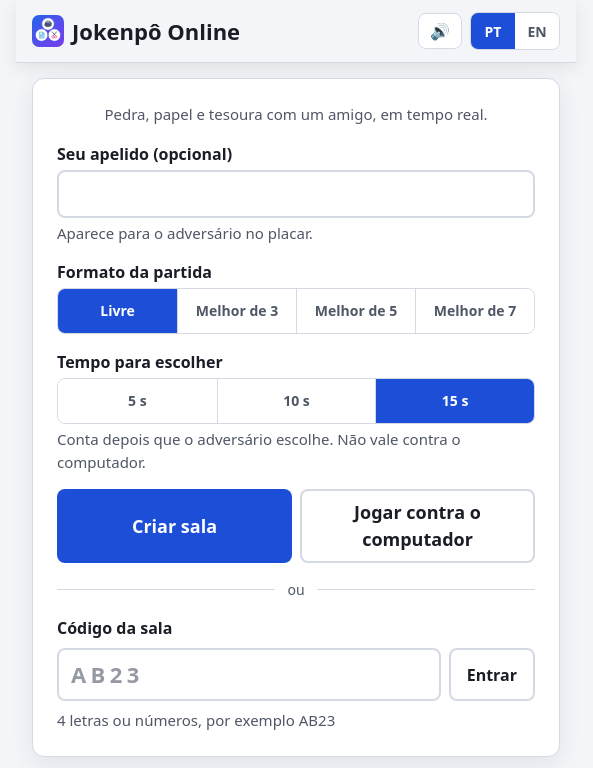
Test case: tela inicial › código inválido mostra o erro junto do campo, sem alert()
Type "AB.C" into the field labelled "Código da sala" at {"x": 249, "y": 674}, box [57,648,441,701]
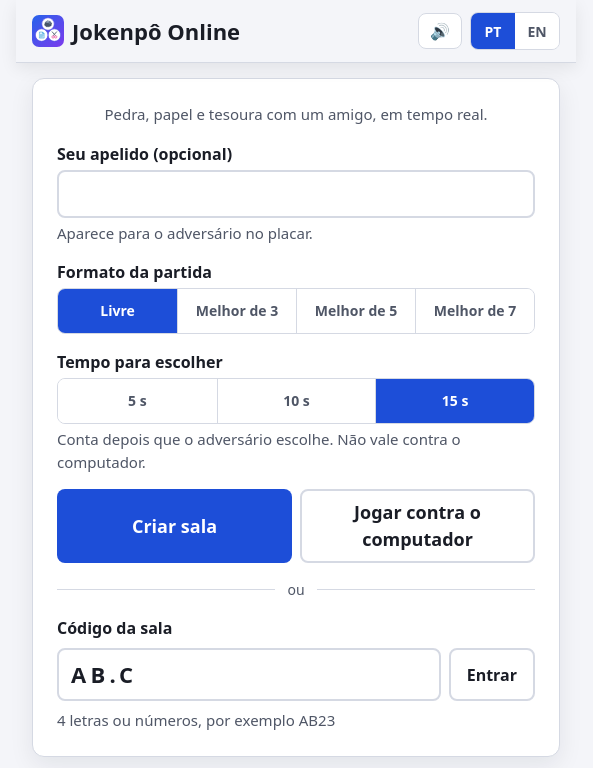
Click the button "Entrar" at {"x": 492, "y": 674}, box [449,648,535,701]
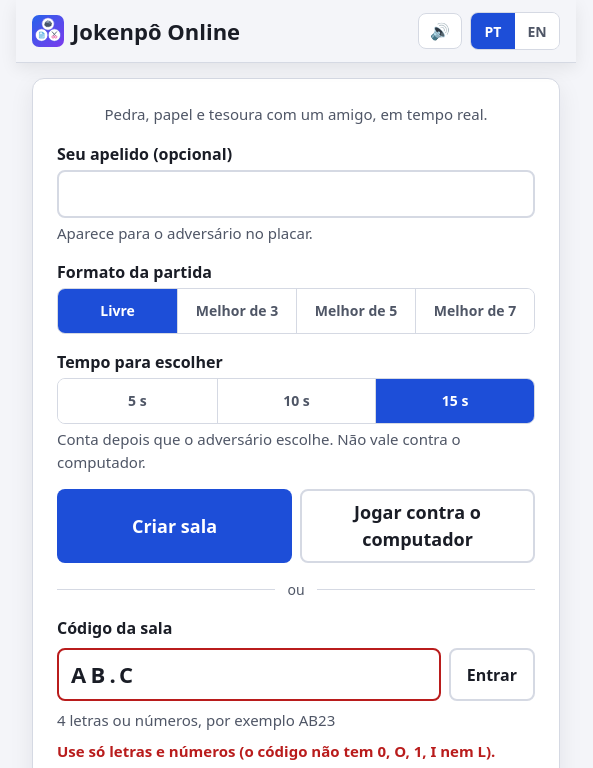
Expected: the message shows "Use só letras e números", [57,740,495,760]
